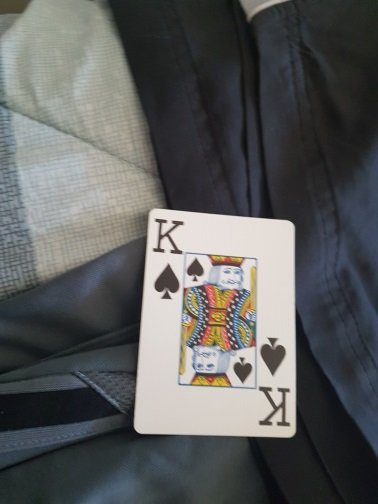king: (133, 208, 296, 439)
